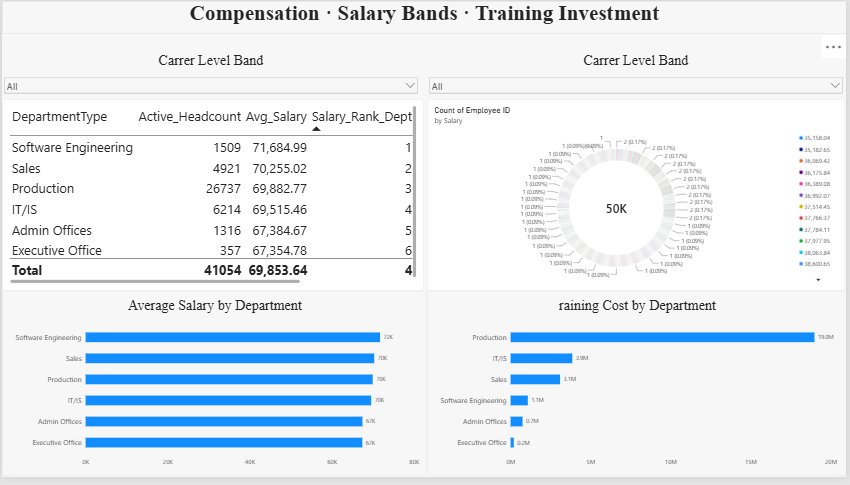

The dashboard page shown, as its layout file describes it:
{"tool":"powerbi","page":{"name":"Page 1","canvas":[1920,1080],"ordinal":2},"visuals":[{"type":"textbox","box":[0,0,1920.5,75],"z":1},{"type":"slicer","title":"Carrer Level Band","fields":{"Values":["EmployeeMaster.Career_Level_Band"]},"box":[0,115.9,950,211.4],"z":2},{"type":"slicer","title":"Carrer Level Band","fields":{"Values":["EmployeeMaster.Salary_Band"]},"box":[965.9,115.9,950,211.4],"z":3},{"type":"clusteredBarChart","title":"Average Salary by Department","fields":{"Category":["EmployeeMaster.DepartmentType"],"Y":["_Measures.Avg_Salary"]},"box":[0,659.1,965.9,420.5],"z":4},{"type":"clusteredBarChart","title":"raining Cost by Department","fields":{"Category":["EmployeeMaster.DepartmentType"],"Y":["_Measures.Total_Training_Cost"]},"box":[965.9,659.1,954.5,420.5],"z":5},{"type":"tableEx","fields":{"Values":["EmployeeMaster.DepartmentType","_Measures.Active_Headcount","_Measures.Avg_Salary","_Measures.Salary_Rank_Dept","Sum(EmployeeMaster.High_Performer_%)"]},"box":[0,222.7,959.1,436.4],"z":6},{"type":"donutChart","fields":{"Category":["EmployeeMaster.Salary"],"Y":["CountNonNull(EmployeeMaster.Employee ID)"]},"box":[965.9,222.7,950,436.4],"z":7}]}

Visuals, with their boxes in screenshot pixels (x1, y1, x2, y2), scaled from the page's 1920x1080 canvas onto the 850x485 screenshot:
textbox: l=0, t=0, r=849, b=34
"Carrer Level Band" slicer: l=0, t=52, r=421, b=147
"Carrer Level Band" slicer: l=428, t=52, r=848, b=147
"Average Salary by Department" clusteredBarChart: l=0, t=296, r=428, b=484
"raining Cost by Department" clusteredBarChart: l=428, t=296, r=849, b=484
tableEx - EmployeeMaster.DepartmentType x _Measures.Active_Headcount: l=0, t=100, r=425, b=296
donutChart - EmployeeMaster.Salary x CountNonNull(EmployeeMaster.Employee ID): l=428, t=100, r=848, b=296
